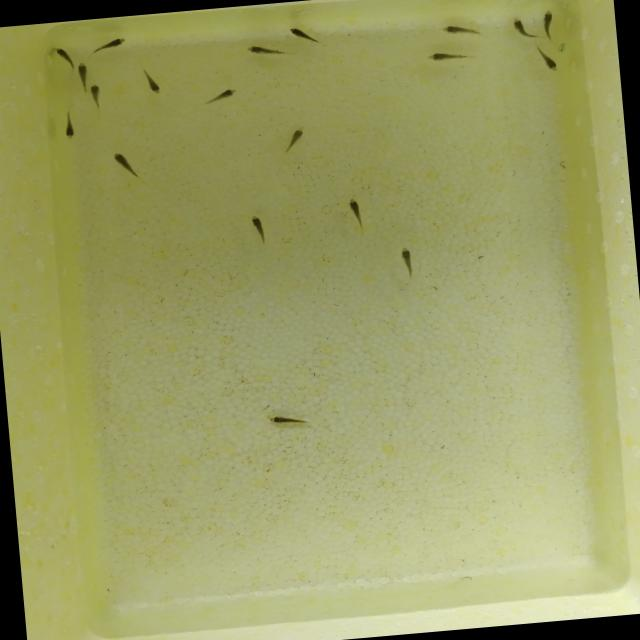fingerling: (198, 85, 242, 108), (94, 32, 135, 56), (424, 48, 473, 66), (286, 22, 322, 46), (280, 123, 308, 153), (262, 412, 312, 428), (534, 48, 562, 76), (82, 82, 110, 110), (140, 65, 162, 100), (242, 41, 284, 59), (111, 146, 132, 180), (541, 7, 563, 36), (248, 212, 269, 242), (442, 23, 484, 38), (72, 63, 94, 91), (61, 110, 79, 142), (346, 197, 364, 228), (397, 247, 414, 278), (50, 44, 75, 62), (514, 16, 533, 38)
